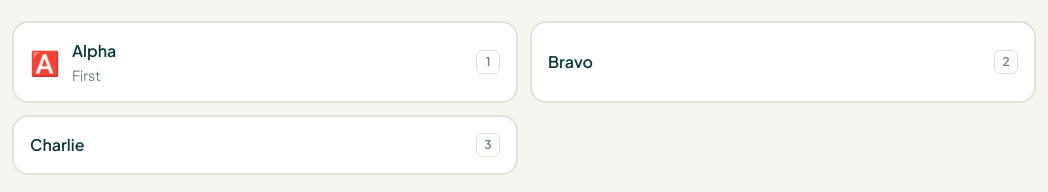
it: ChoiceGrid › shows labels, hints, icons and number hints; click selects
Expected: the text "First" is shown, [72,66,100,84]
Expected: the text "🅰️" is shown, [30,46,60,78]
Click the radio button labelled "Bravo 2".
click(571, 62)  # box [530,21,1036,103]
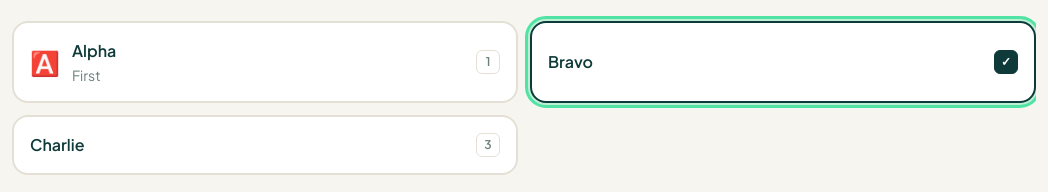
Expected: the radio button labelled "Bravo ✓" is shown, [530,21,1036,103]
